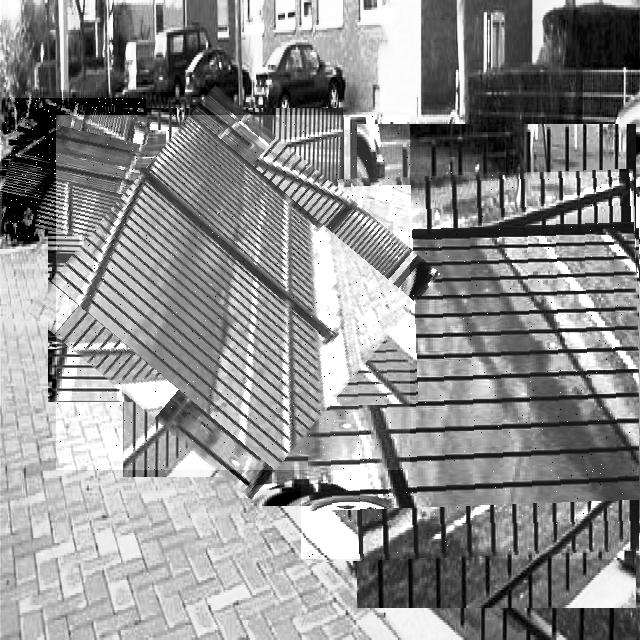fences: (301, 172, 640, 559), (56, 115, 410, 470), (2, 98, 146, 241)
